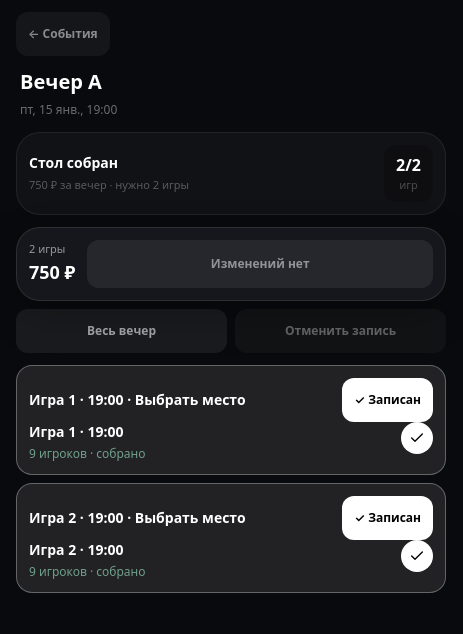
Test: existing booking screen correctness › quotes one configured rating entry fee rather than adding slot prices
expect the text "750 ₽ за вечер · нужно 2 игры" is shown: met, box [29, 177, 189, 194]
expect the text "750 ₽" is shown: met, box [29, 258, 75, 286]
Click the button with aria-label "Выбрать игру 1" at (388, 400), box [342, 378, 433, 422]
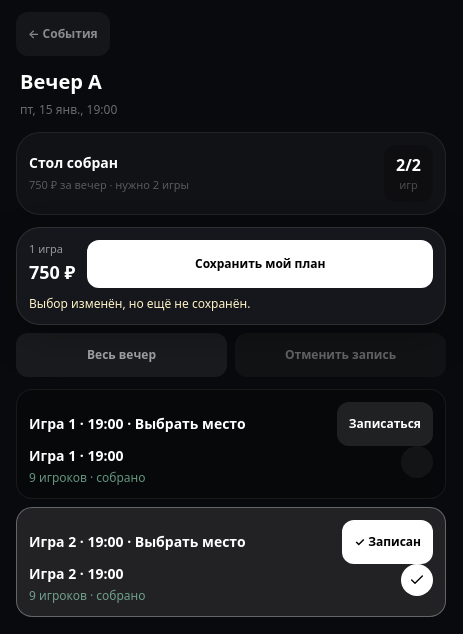
Click the button with aria-label "Выбрать игру 2" at (388, 542), box [342, 520, 433, 564]
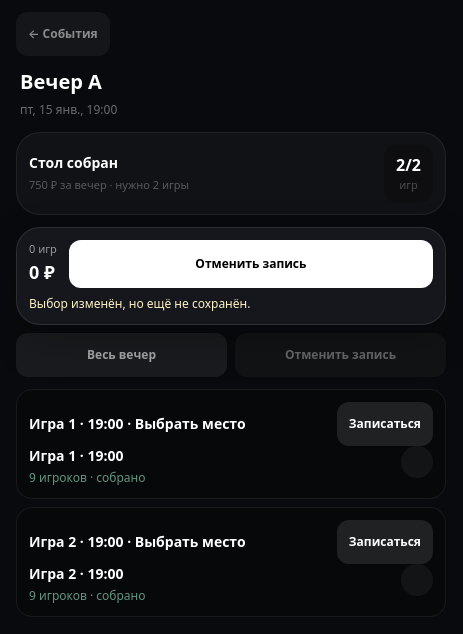
expect the text "0 ₽" is shown: met, box [29, 258, 57, 286]
Click the button "Весь вечер" at (122, 354), box [16, 332, 227, 376]
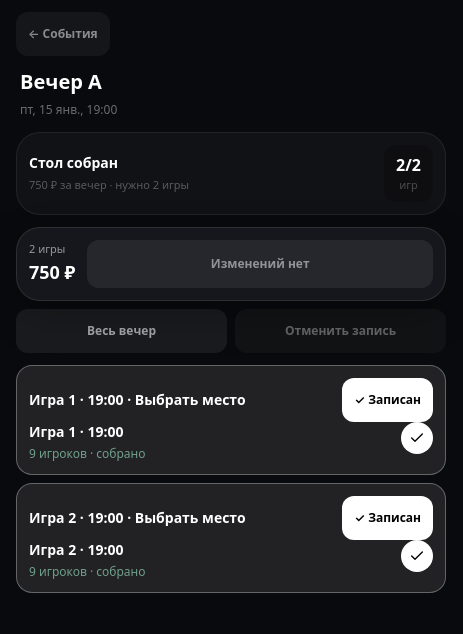
expect the text "750 ₽" is shown: met, box [29, 258, 75, 286]
